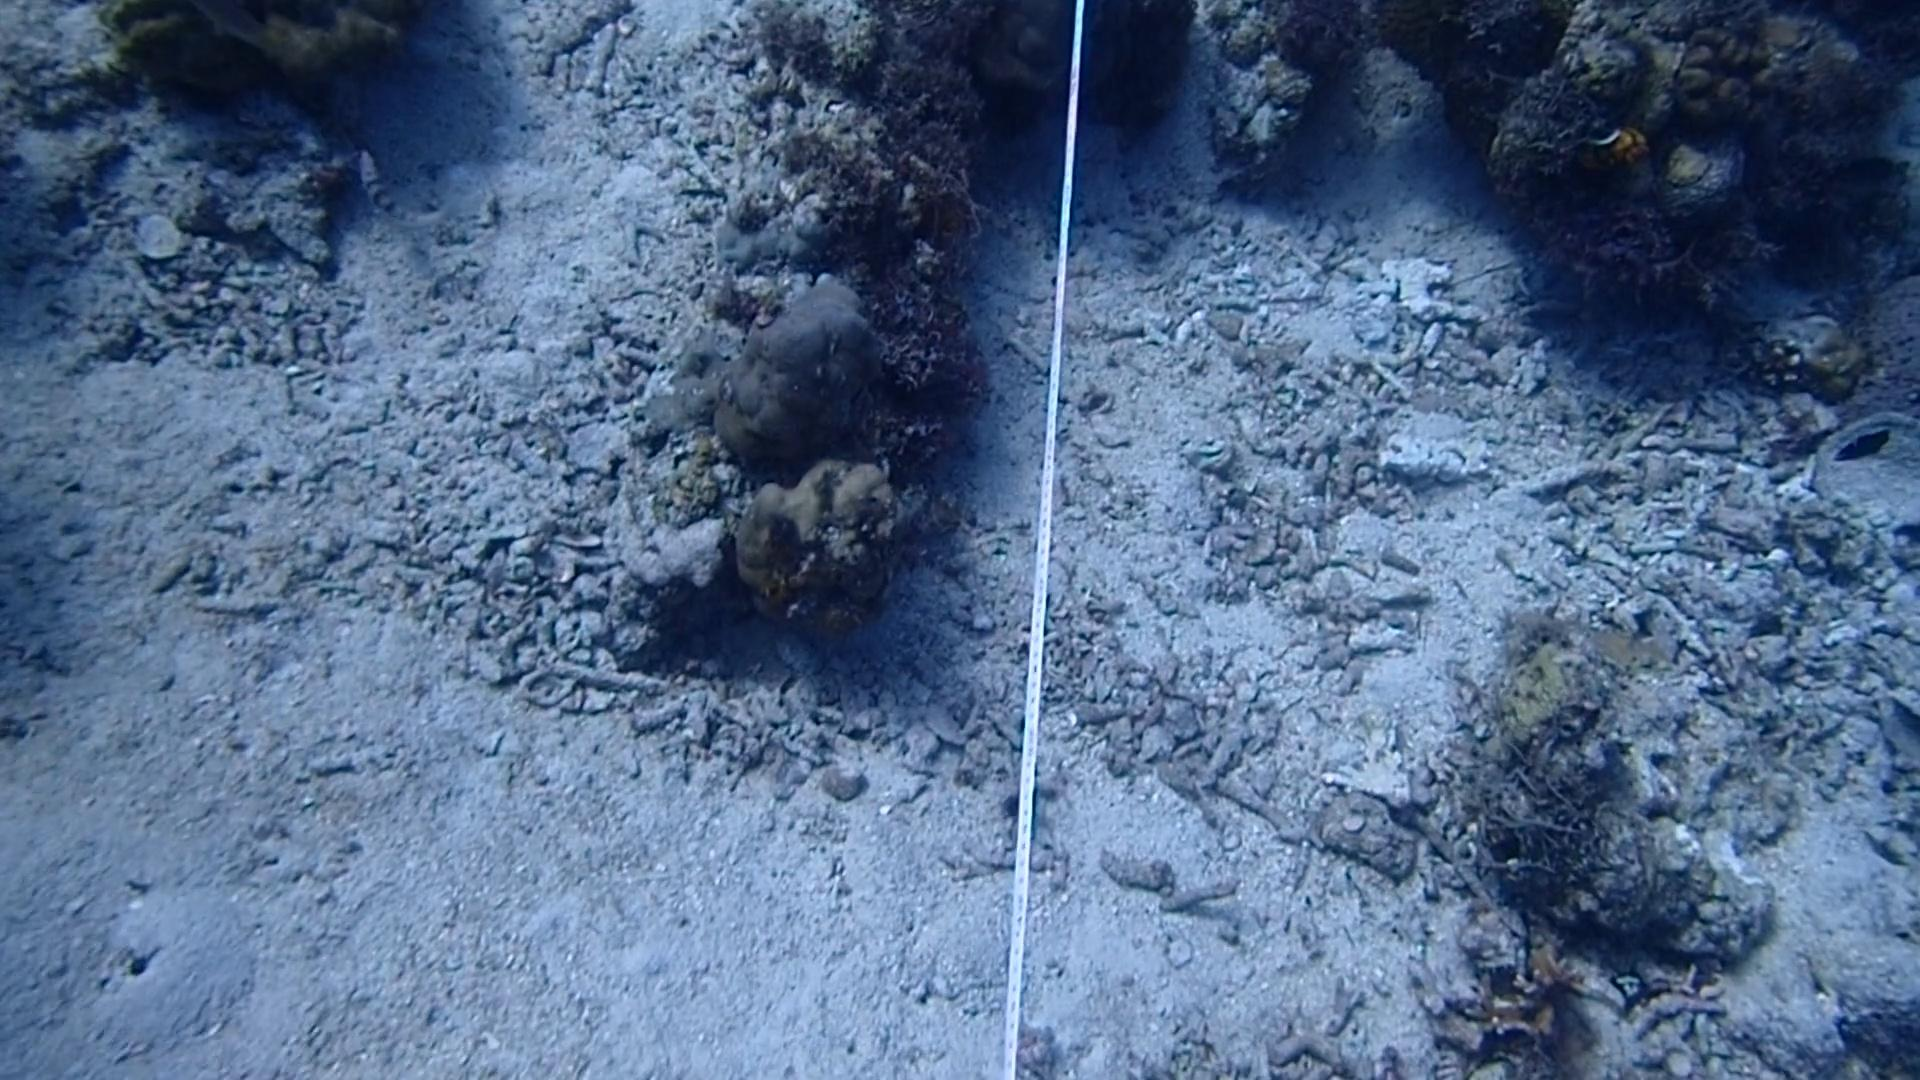Dark Fish: (1828, 418, 1902, 473)
Light Fish w Back Stripes: (339, 137, 447, 236)
